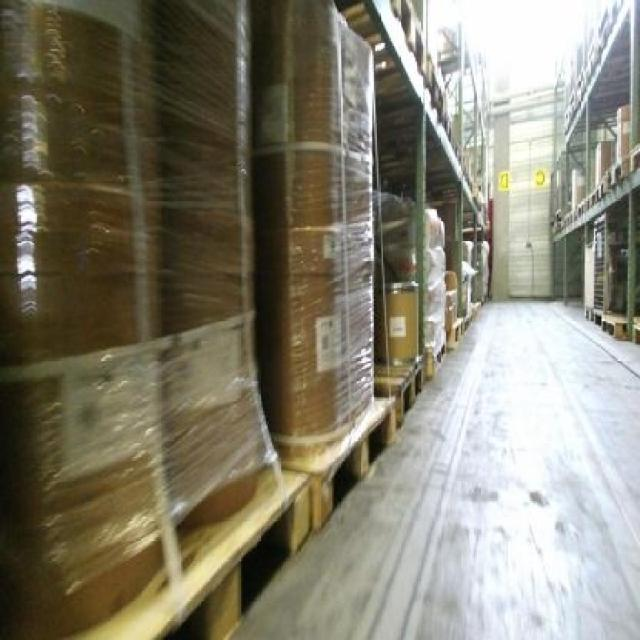floor: (231, 300, 637, 637)
